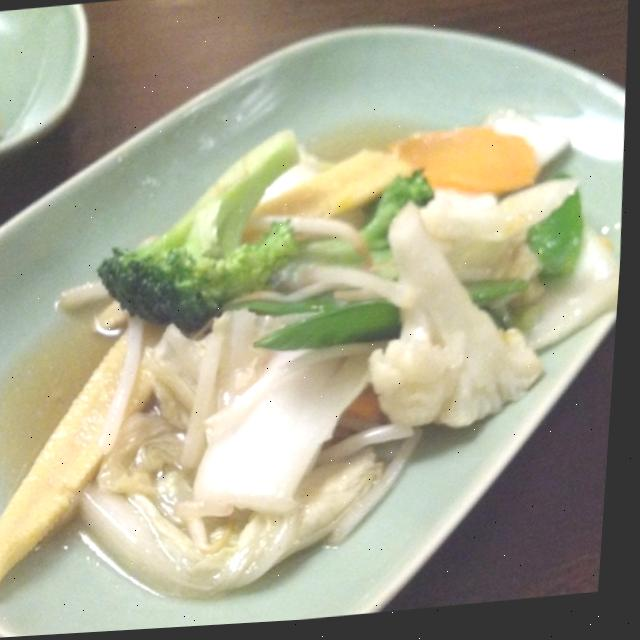蔬菜料理: (0, 6, 638, 640)
